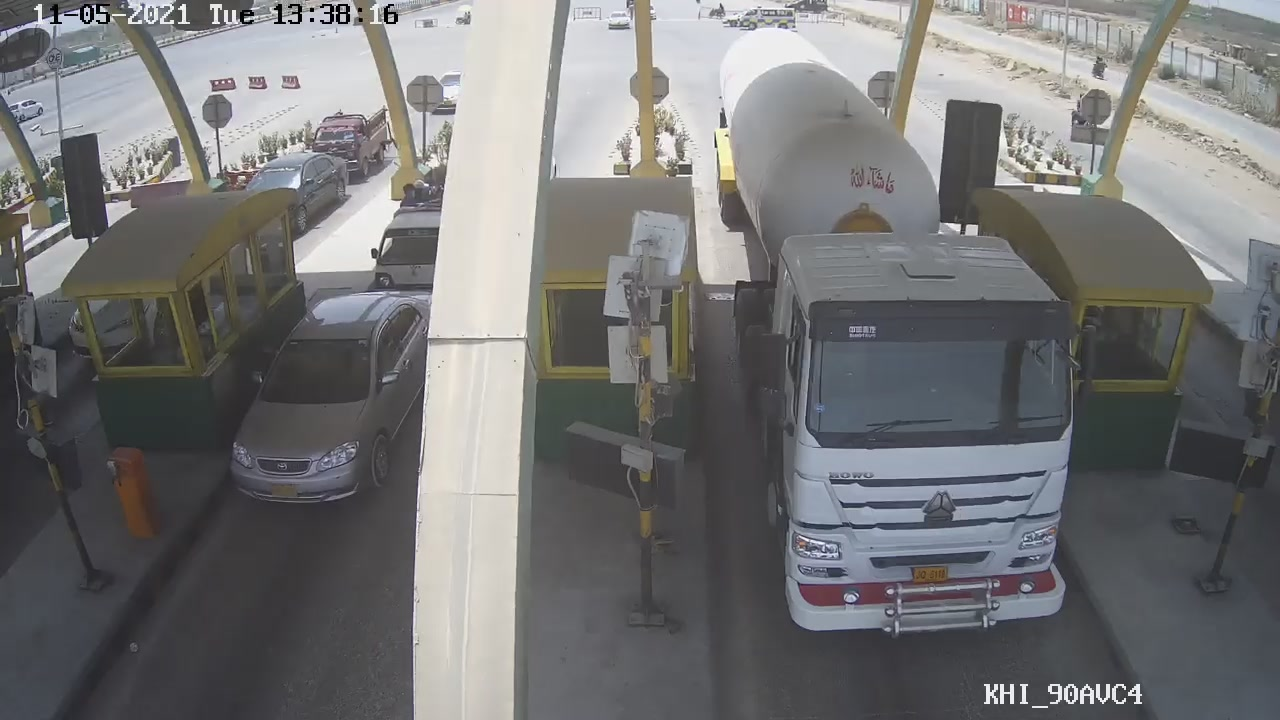F6: (708, 26, 1100, 645)
